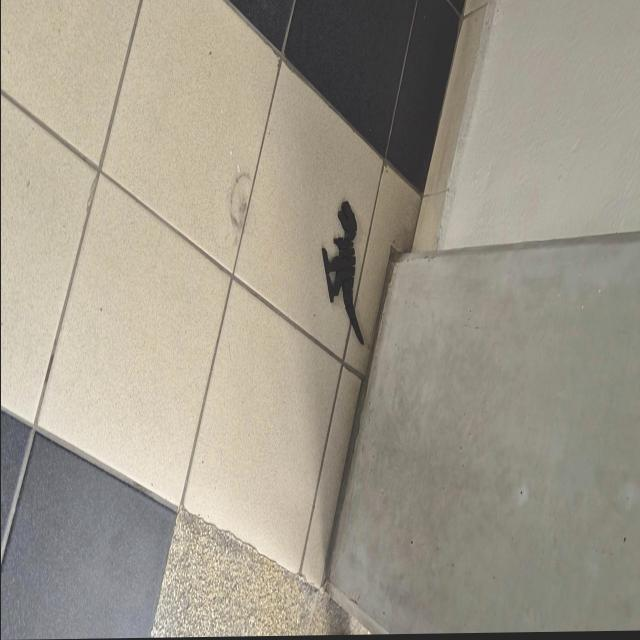dino: (320, 200, 364, 346)
